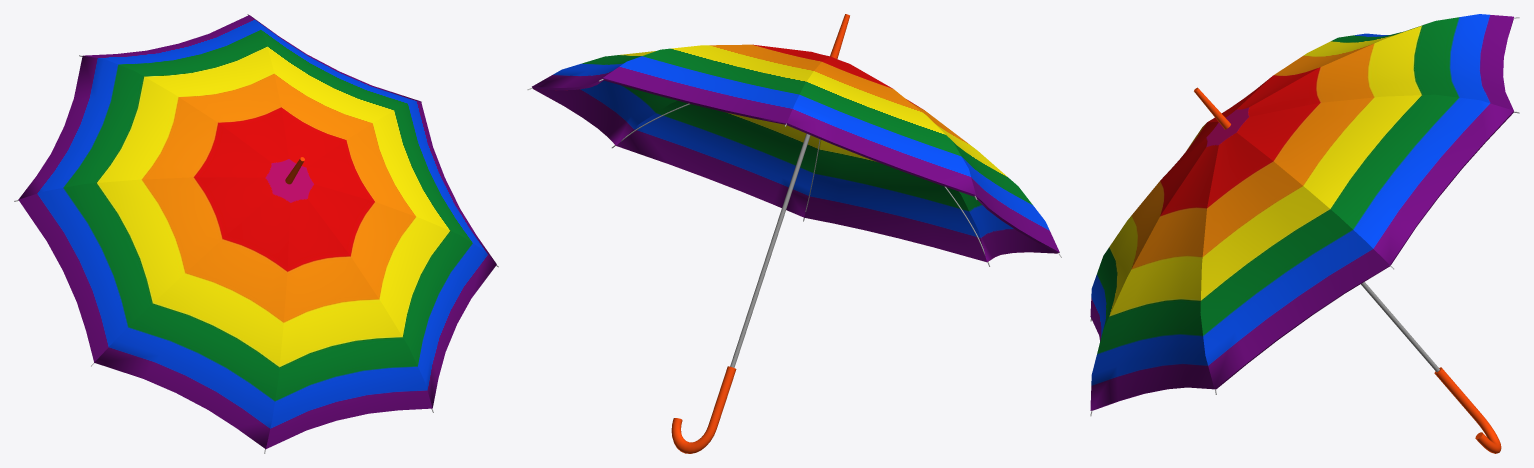
Rendered from U-Umbrealla remake.FBX.
3 views of the same model, side by side, from view 1: azimuth 30°, elevation 25°; view 2: azimuth 150°, elevation 25°; view 3: azimuth 270°, elevation 25° (orthographic). The views are drawn at different scales.
Visible parts, largest first — view 1: Star04; view 2: Star04, Circle01; view 3: Star04, Circle01.
Part boxes in pixels (x1,y1,x2,y2): Star04: (18,15,496,448); Star04: (532,44,1059,262); Circle01: (671,14,849,453); Star04: (1090,14,1513,410); Circle01: (1194,87,1501,453).
Bounding box in the file's own units: 114 × 88.91 × 89.5.
Materials: 4 (1 with a texture image).
